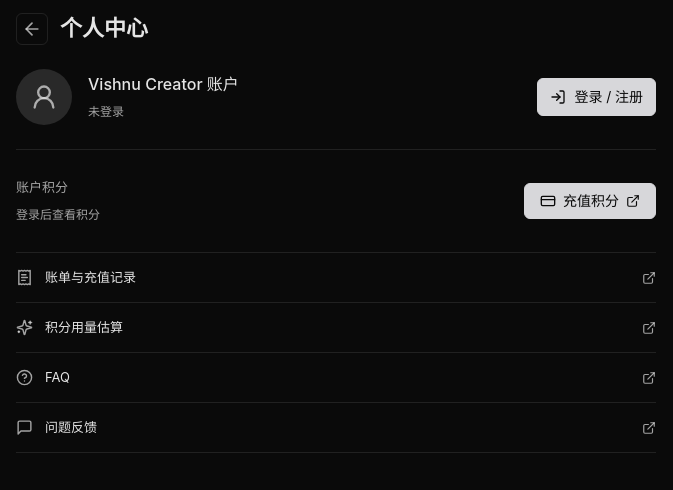
Test: loads credits immediately after login
The width and height of the screenshot is (673, 490).
Click the button "登录 / 注册".
click(597, 97)  # box [537,78,656,116]
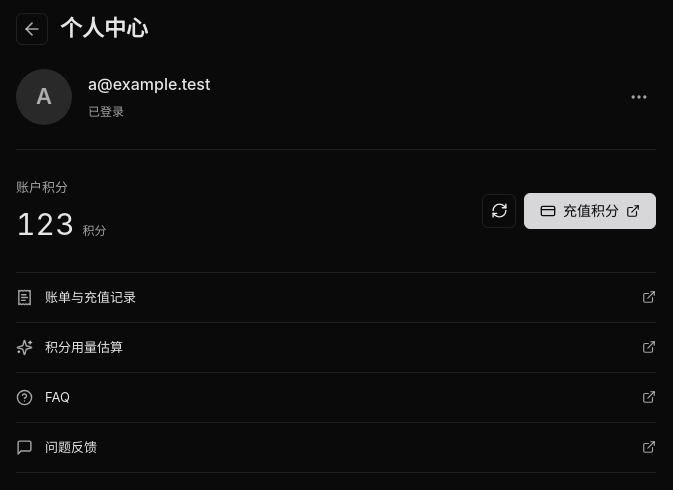
Expected: the text "123" is shown, [16,206,74,242]
